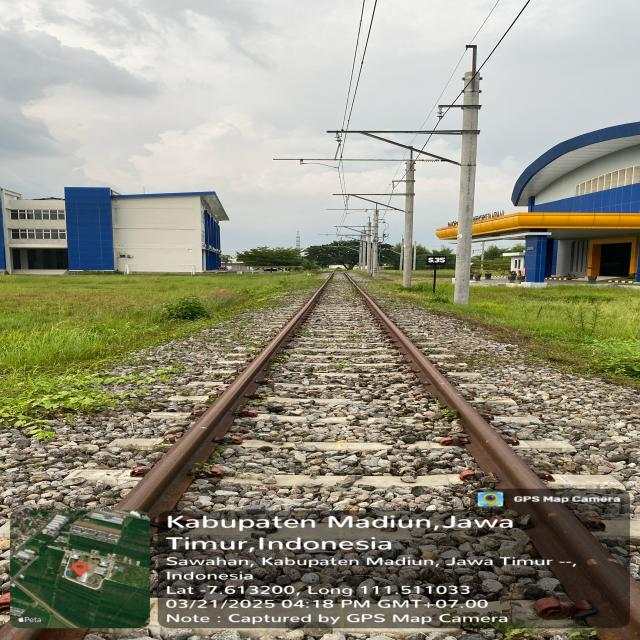rail-detection: (345, 272, 636, 637), (120, 271, 334, 519)
